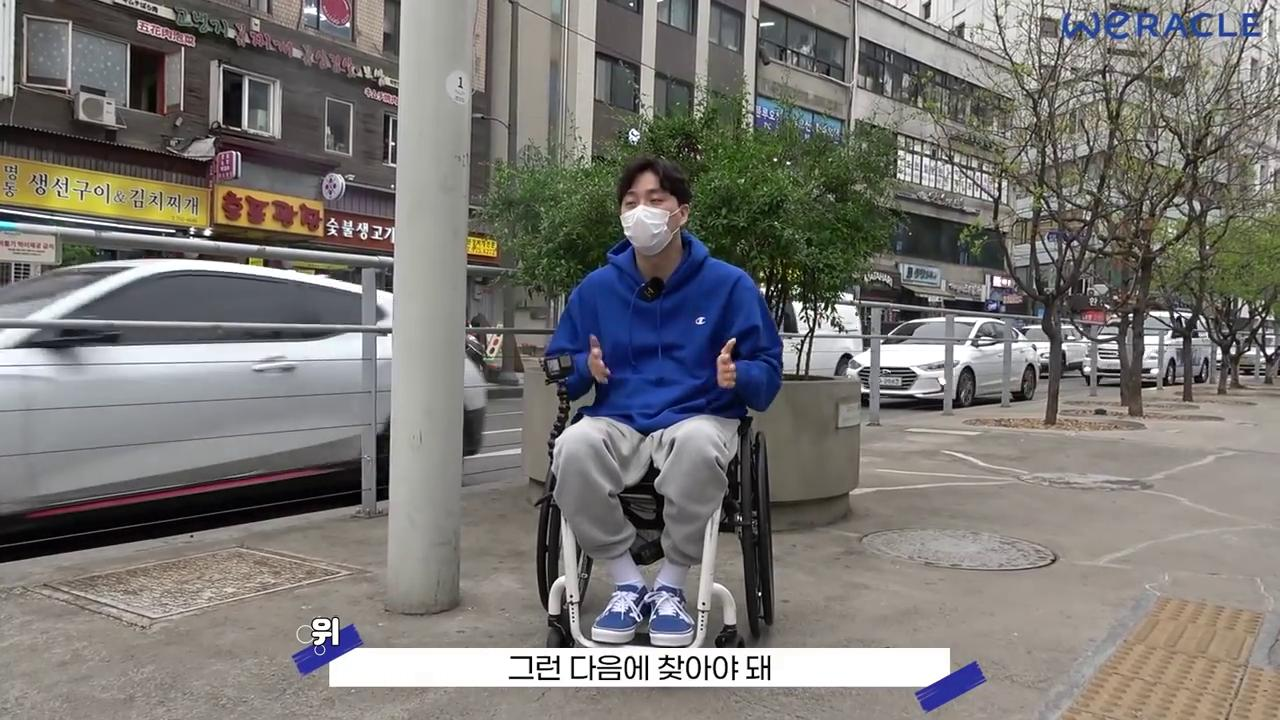wheelchair: (535, 158, 781, 641)
